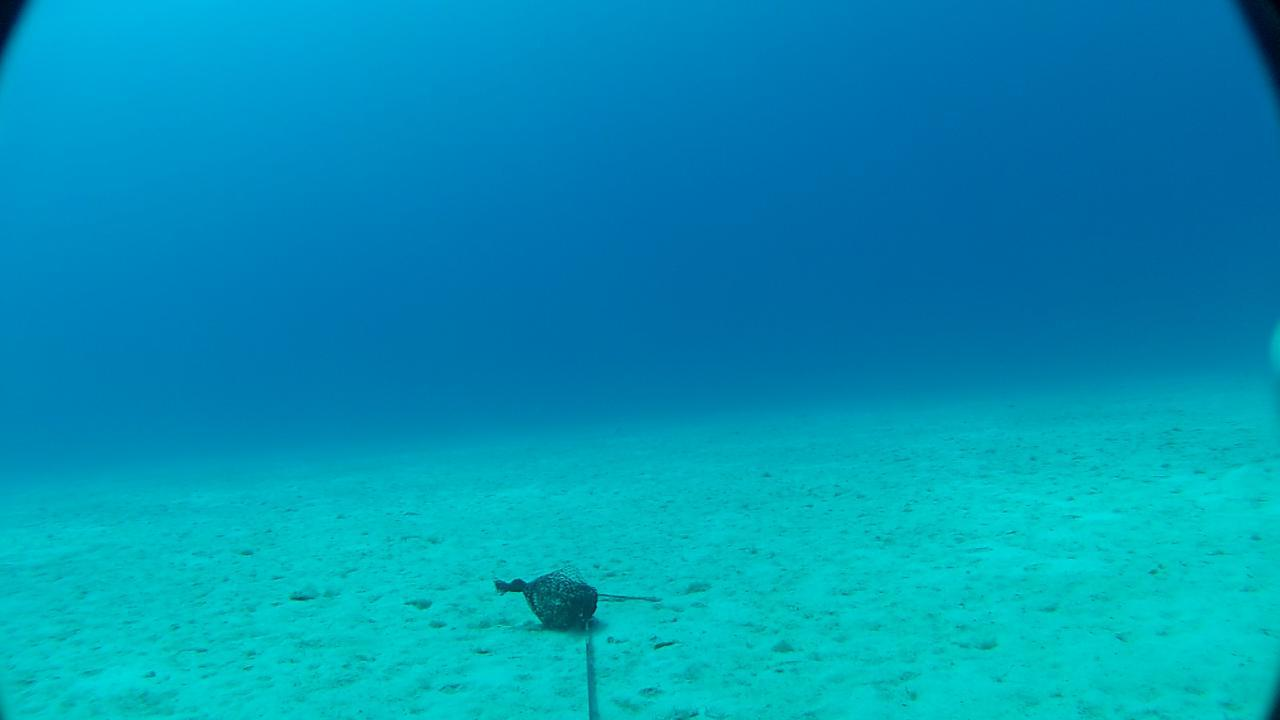bothus: (288, 576, 319, 603)
